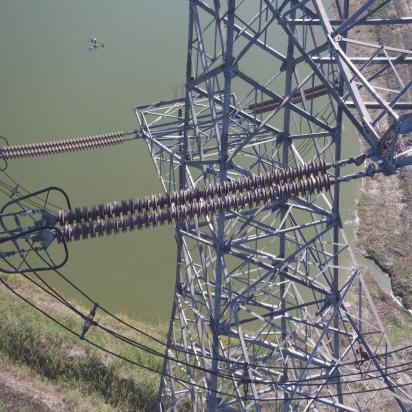insulator: (51, 158, 344, 246), (1, 130, 132, 161)
